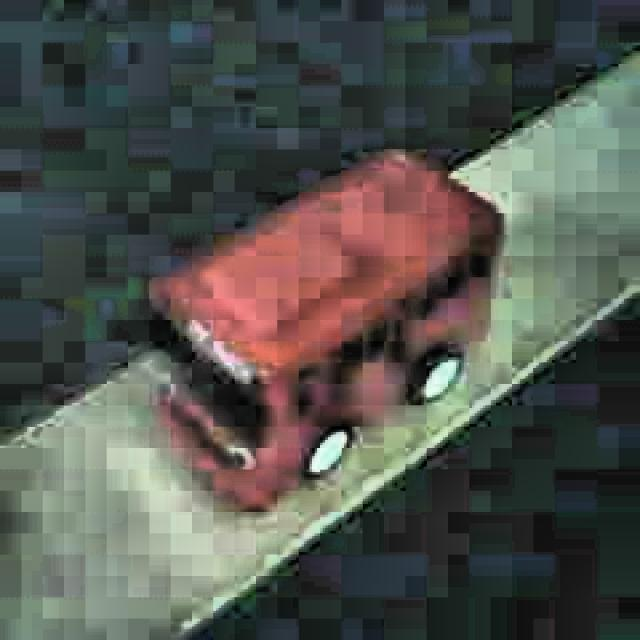bus: (148, 146, 508, 512)
